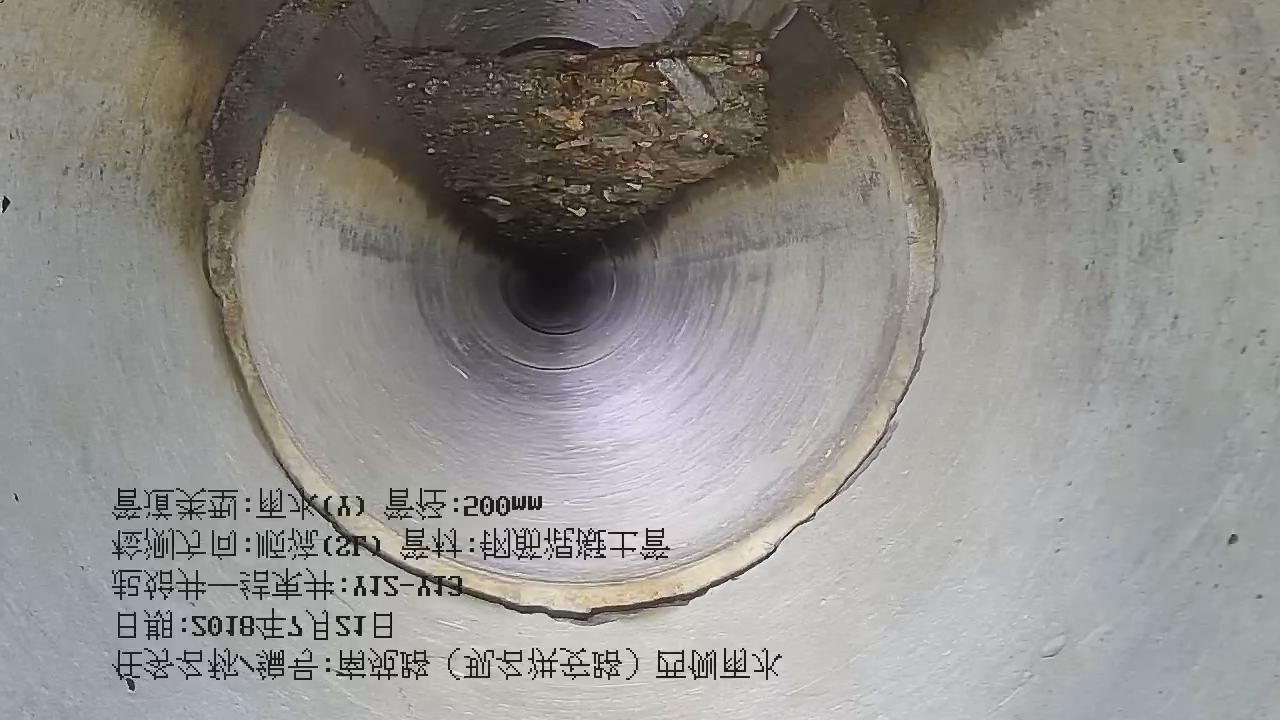CJ: (363, 23, 769, 254)
CKTJ: (193, 1, 946, 625)
